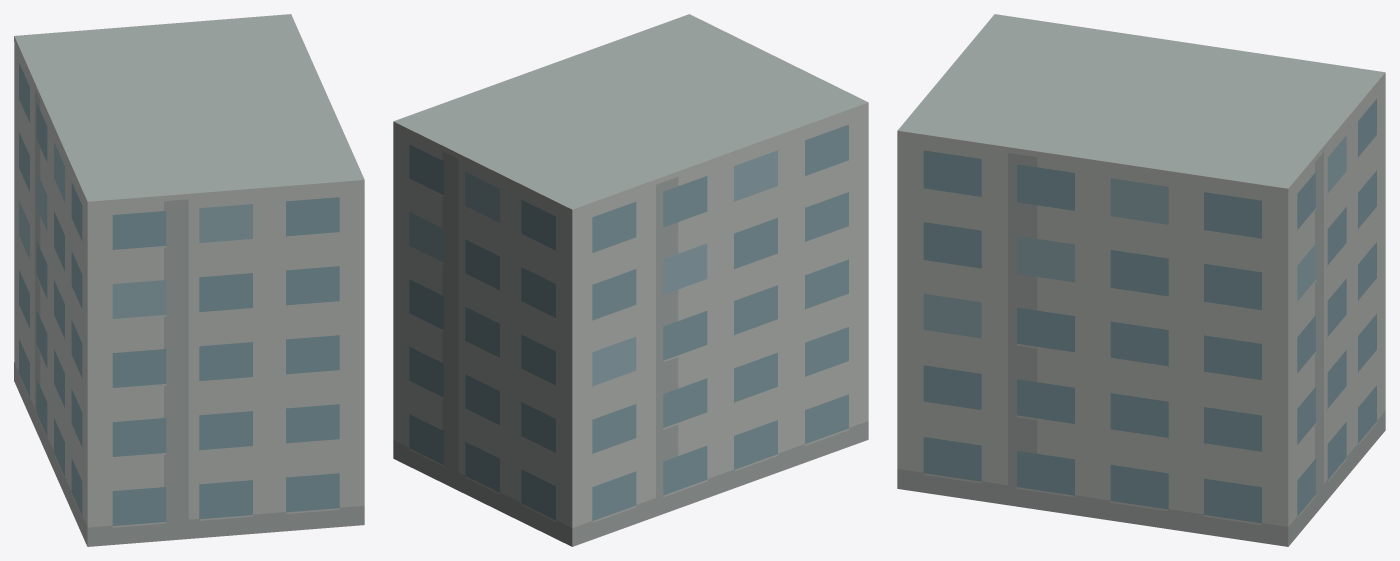
The model's file is residential-f9b107aa-319b-4466-a2b4-0ae55ea6dd2d.glb.
3 views of the same model, side by side, from view 1: azimuth 30°, elevation 25°; view 2: azimuth 150°, elevation 25°; view 3: azimuth 270°, elevation 25° (orthographic). The views are drawn at different scales.
Visible parts, largest first — view 1: residential-f9b107aa-319b-4466-a2b4-0ae55ea6dd2d.tmp; view 2: residential-f9b107aa-319b-4466-a2b4-0ae55ea6dd2d.tmp; view 3: residential-f9b107aa-319b-4466-a2b4-0ae55ea6dd2d.tmp.
Boxes of the visible parts, x1=… form: residential-f9b107aa-319b-4466-a2b4-0ae55ea6dd2d.tmp: x1=14, y1=14, x2=364, y2=546; residential-f9b107aa-319b-4466-a2b4-0ae55ea6dd2d.tmp: x1=393, y1=14, x2=868, y2=546; residential-f9b107aa-319b-4466-a2b4-0ae55ea6dd2d.tmp: x1=897, y1=14, x2=1385, y2=546.
Bounding box in the file's own units: 15.97 × 15.25 × 18.85.
